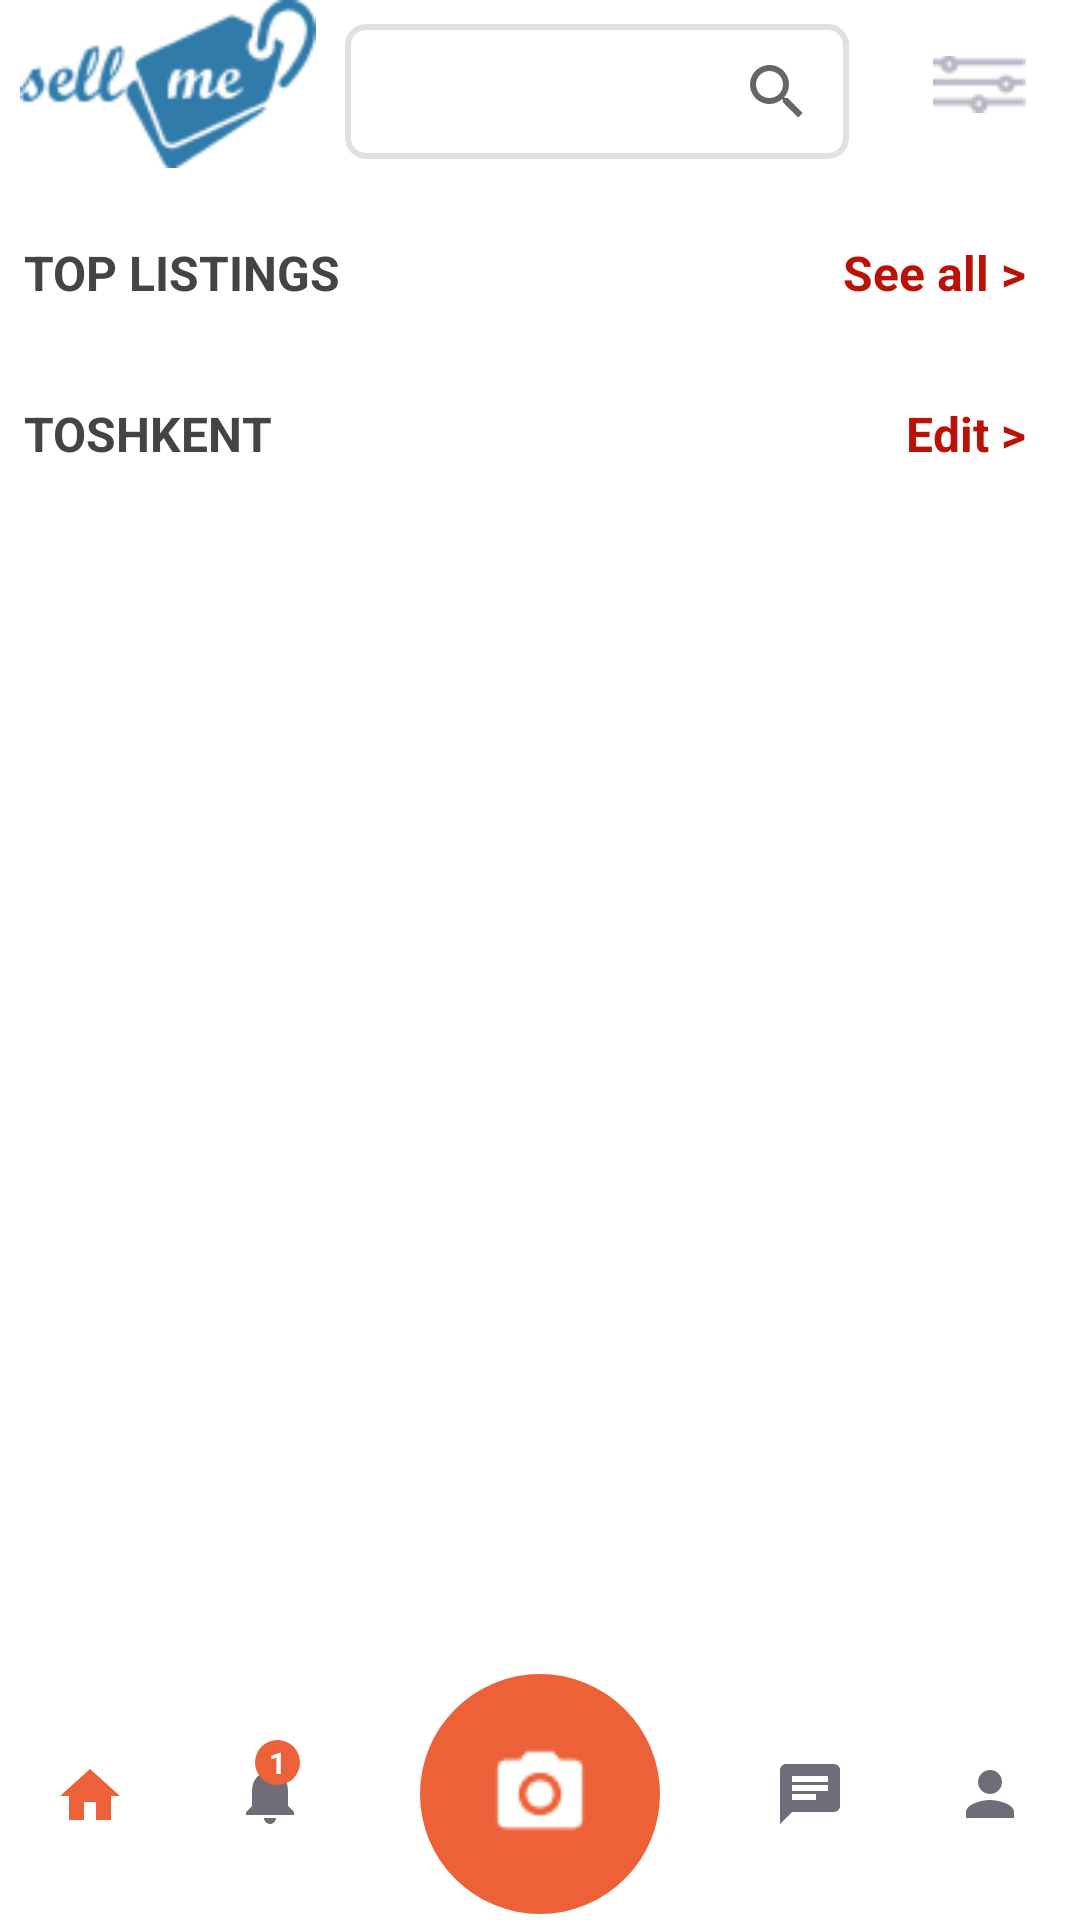

Locate icon controls on the screen. Image size 1080×1920, boxes as BBox(x1, y1, x2, y2).
camera main: BBox(496, 1750, 583, 1831)
chat: BBox(780, 1764, 840, 1824)
filterbutton: BBox(933, 56, 1026, 113)
home: BBox(60, 1769, 120, 1820)
notification: BBox(246, 1764, 294, 1824)
profil: BBox(966, 1770, 1014, 1818)
